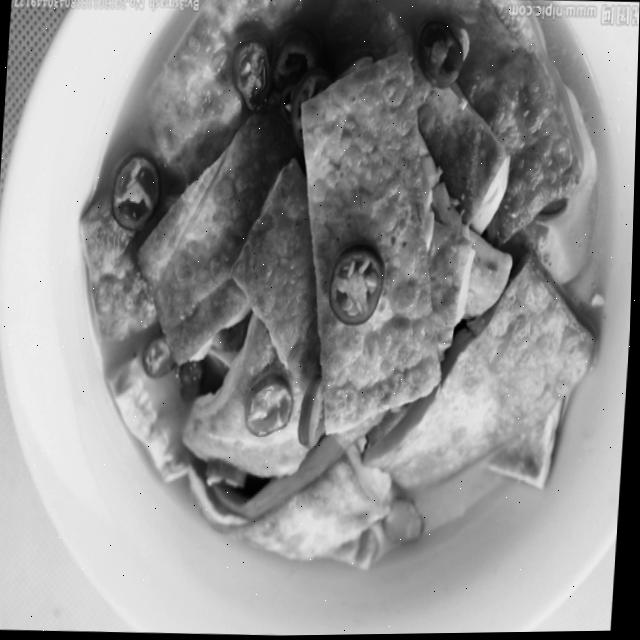豆腐料理: (26, 0, 628, 612)
